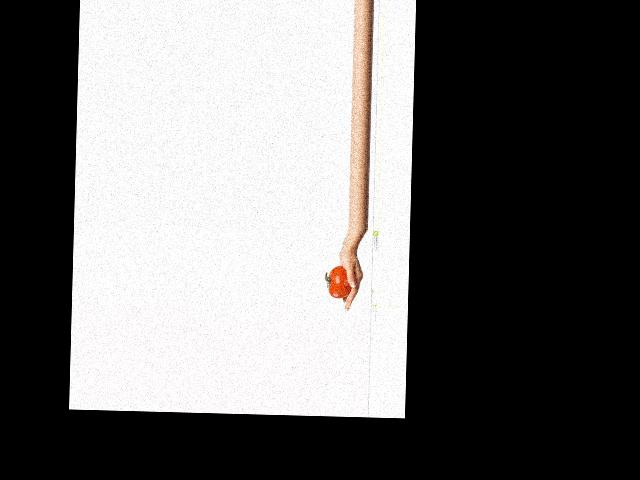tomato: (328, 265, 351, 298)
